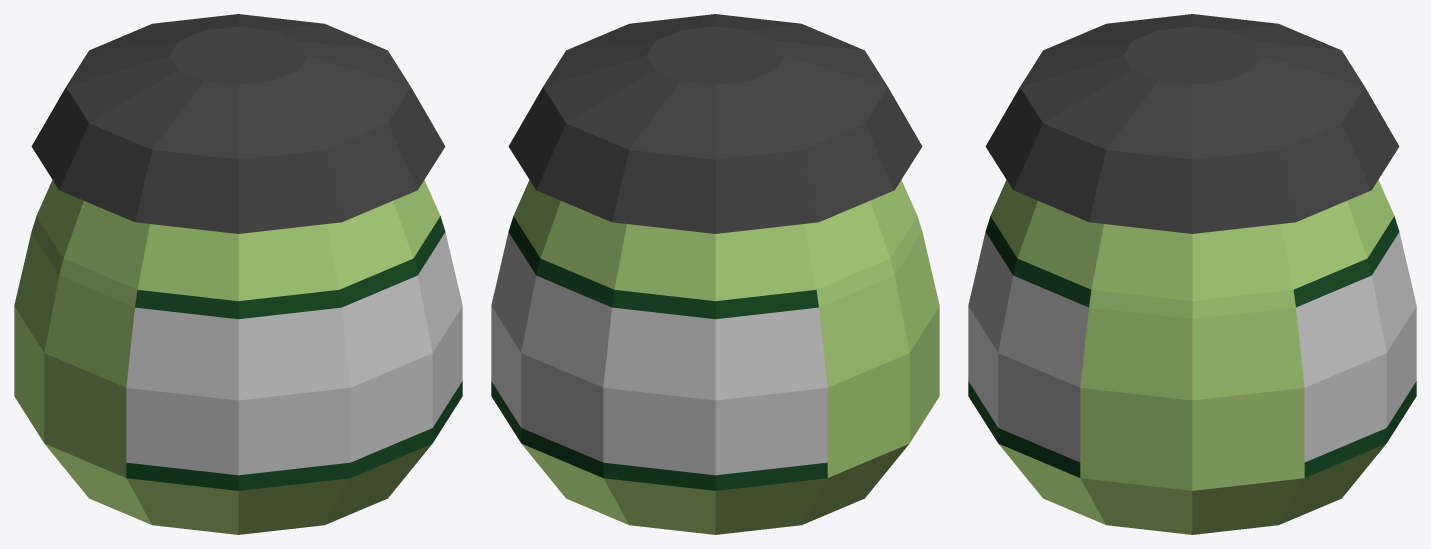
The model's file is Hair Wax.fbx.
3 renders of one model, left to right at view 1: azimuth 30°, elevation 25°; view 2: azimuth 150°, elevation 25°; view 3: azimuth 270°, elevation 25°, orthographic.
Parts seen in each view (by area): view 1: Hair Wax, Lid; view 2: Hair Wax, Lid; view 3: Hair Wax, Lid.
Boxes of the visible parts, x1,y1,x2,y2 form: Hair Wax: [14, 180, 462, 534]; Lid: [31, 14, 445, 233]; Hair Wax: [491, 180, 939, 534]; Lid: [508, 14, 922, 233]; Hair Wax: [968, 180, 1416, 534]; Lid: [985, 14, 1399, 233].
Bounding box in the file's own units: 104 × 104 × 104.
